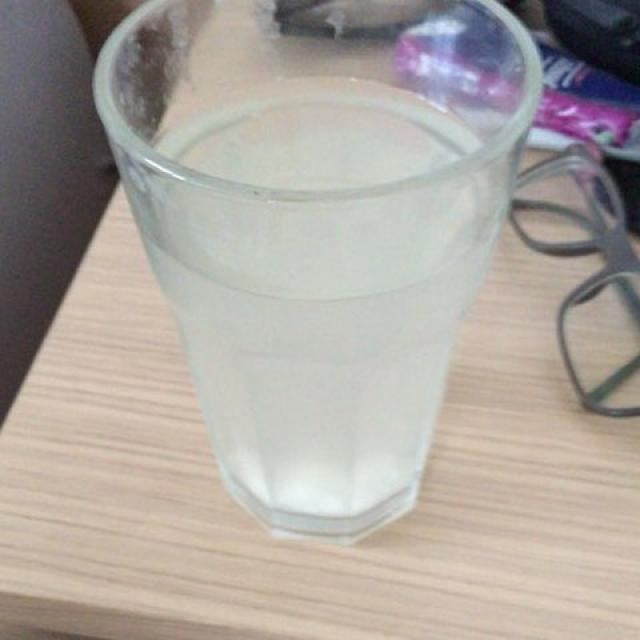glucose-drink-50g: (123, 10, 514, 527)
